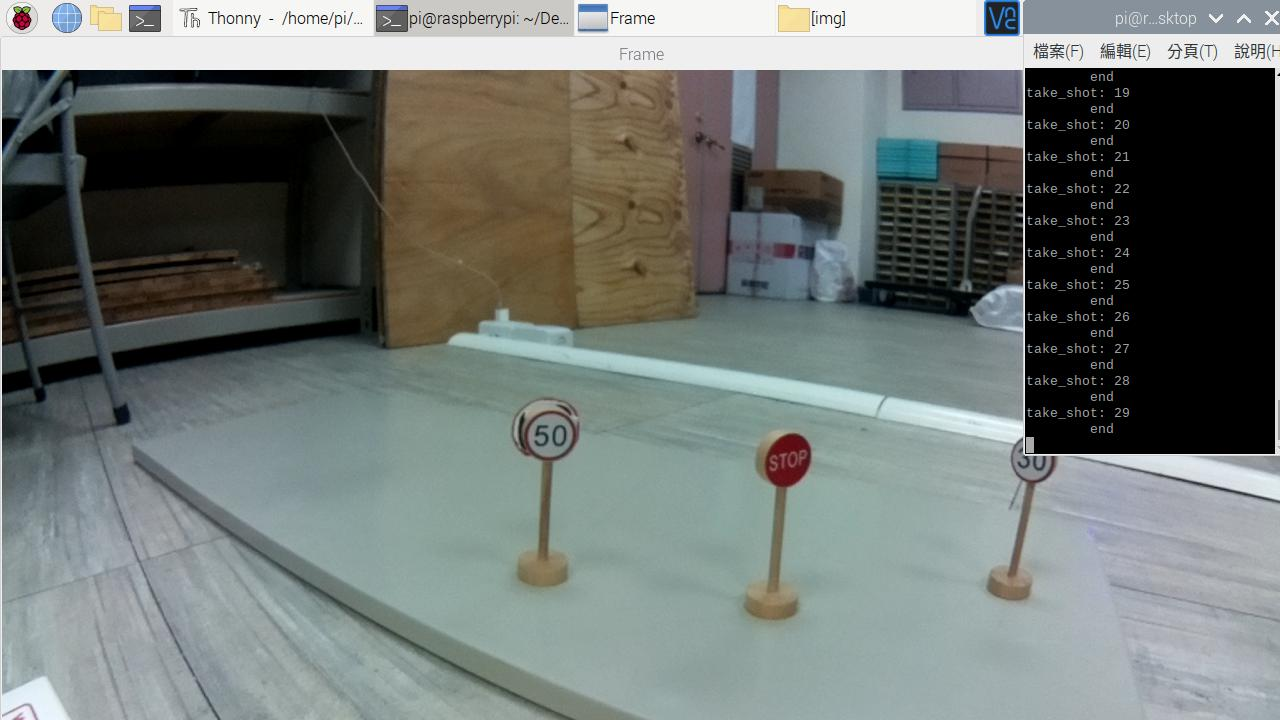Speed50: (524, 400, 579, 460)
Stop: (758, 431, 815, 488)
